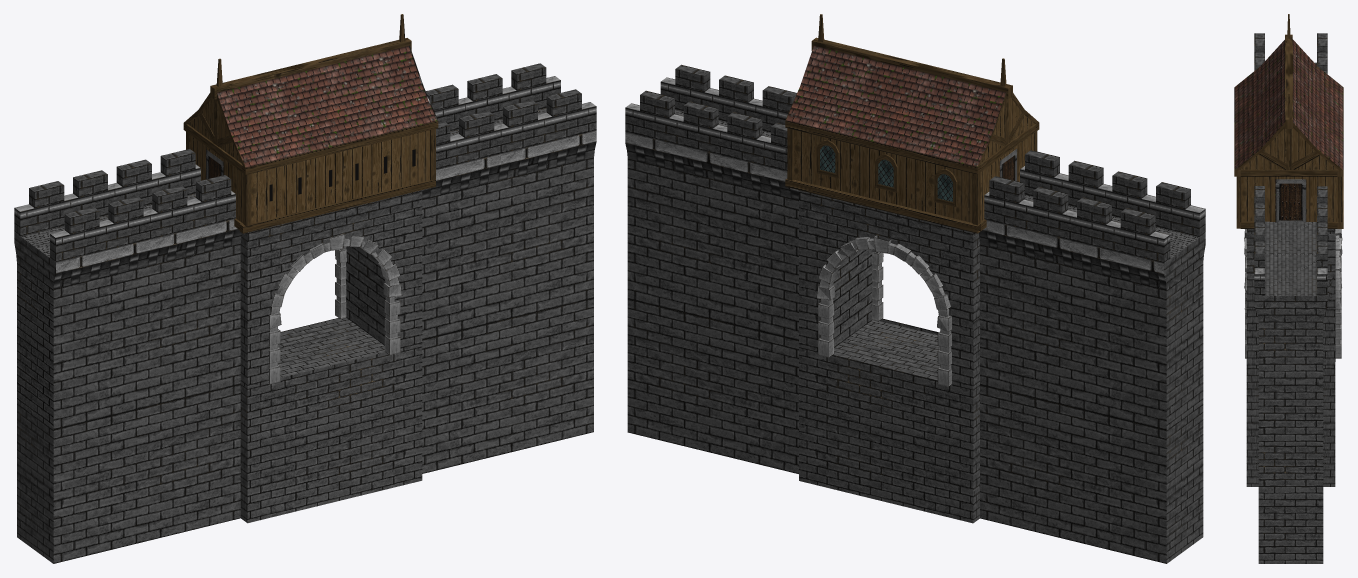
File: dwarf_wall_gate.dae
3 renders of one model, left to right at view 1: azimuth 30°, elevation 25°; view 2: azimuth 150°, elevation 25°; view 3: azimuth 270°, elevation 25°, orthographic. The views are drawn at different scales.
Visible parts, largest first — view 1: dwarf_wall_long; view 2: dwarf_wall_long; view 3: dwarf_wall_long.
Boxes of the visible parts, <box> form: dwarf_wall_long: <box>14,14,596,563</box>; dwarf_wall_long: <box>625,14,1205,563</box>; dwarf_wall_long: <box>1234,14,1343,563</box>.
Size of the model in its own units: 34.3 by 6.79 by 27.14.
Materials: 1 (1 with a texture image).
